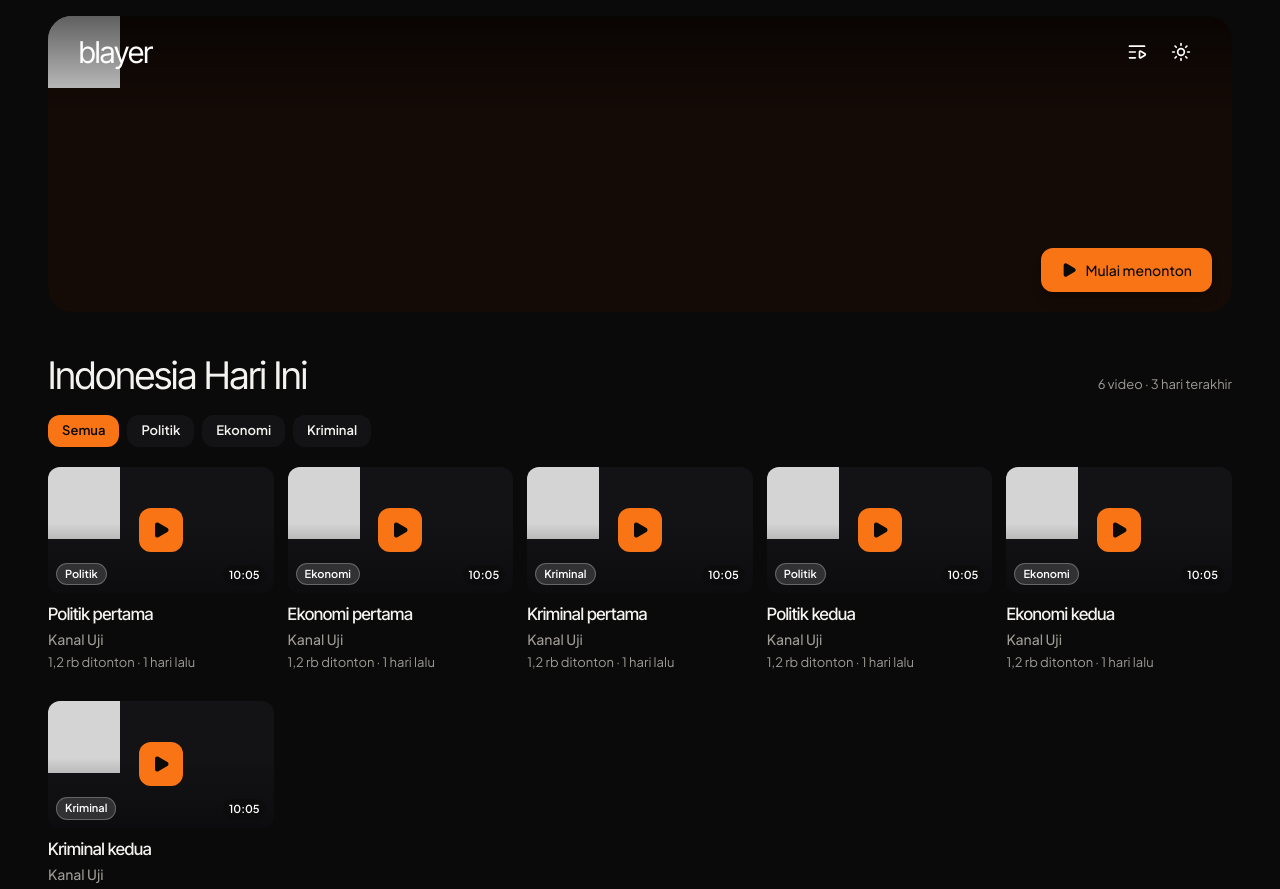
it: beranda › menyaring video saat kategori dipilih tanpa memanggil API lagi
Click the button "Kriminal" at (332, 430), box [293,414,371,446]
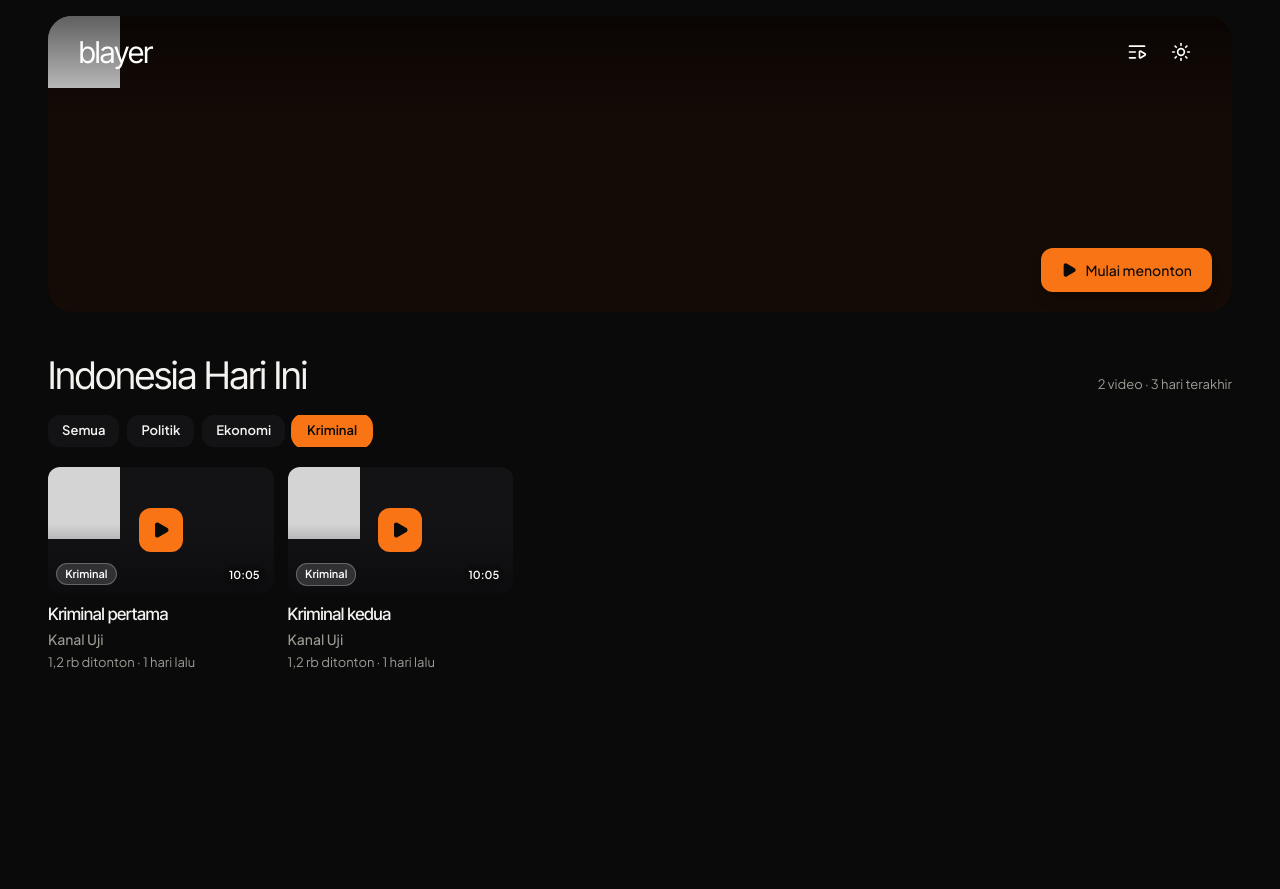
Expected: the text "Kriminal pertama" is shown, [48,604,168,624]
Now the number of links "ditonton" is 2, box [48,466,274,673]; [288,466,513,673]
